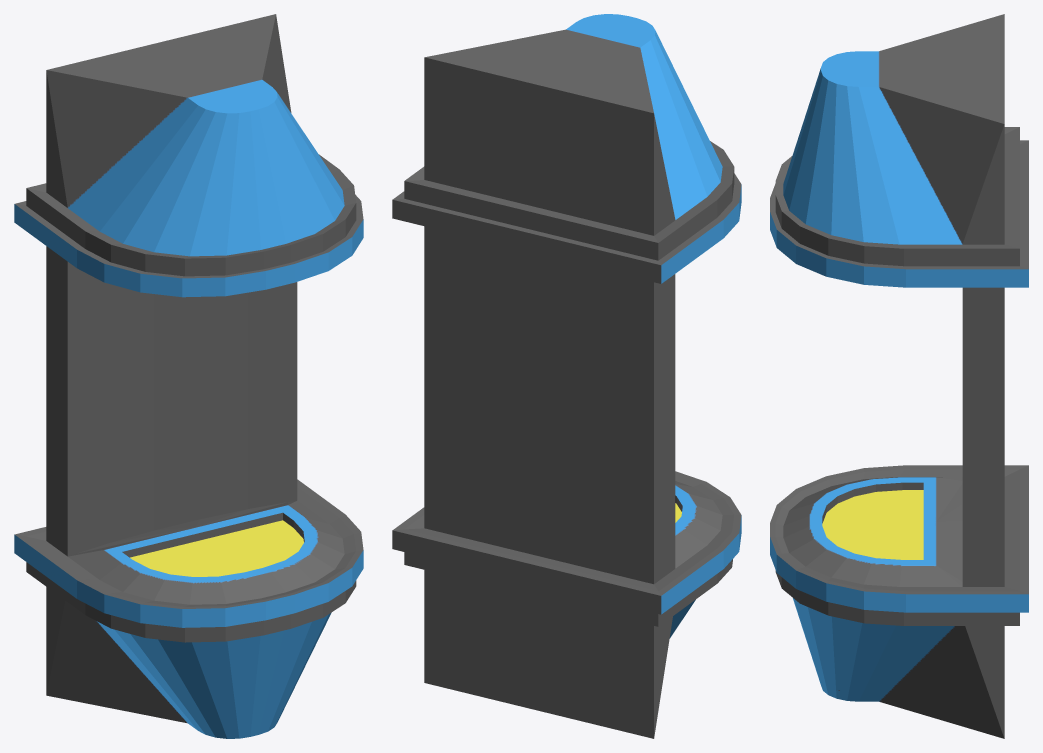
The model's file is BatteryCharger.fbx.
3 renders of one model, left to right at view 1: azimuth 30°, elevation 25°; view 2: azimuth 150°, elevation 25°; view 3: azimuth 270°, elevation 25°, orthographic.
Parts seen in each view (by area): view 1: BatteryChargerModel; view 2: BatteryChargerModel; view 3: BatteryChargerModel.
Boxes of the visible parts, box(x1,y1,x2,y2) form: BatteryChargerModel: box(14, 14, 363, 738); BatteryChargerModel: box(392, 14, 741, 738); BatteryChargerModel: box(770, 14, 1028, 738).
Bounding box in the file's own units: 154 × 342 × 130.
